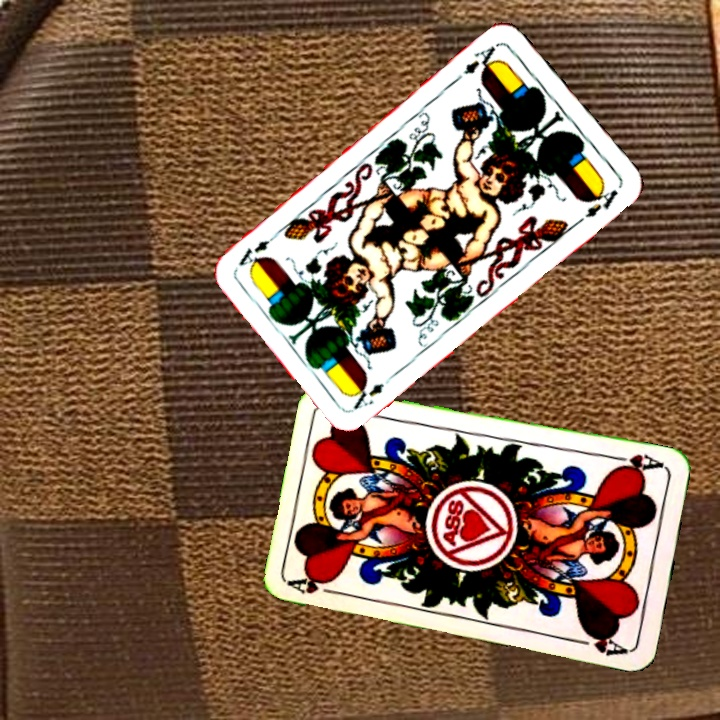EA: (349, 369, 398, 412), (459, 40, 501, 78)
HA: (287, 570, 346, 598), (608, 450, 667, 476)
